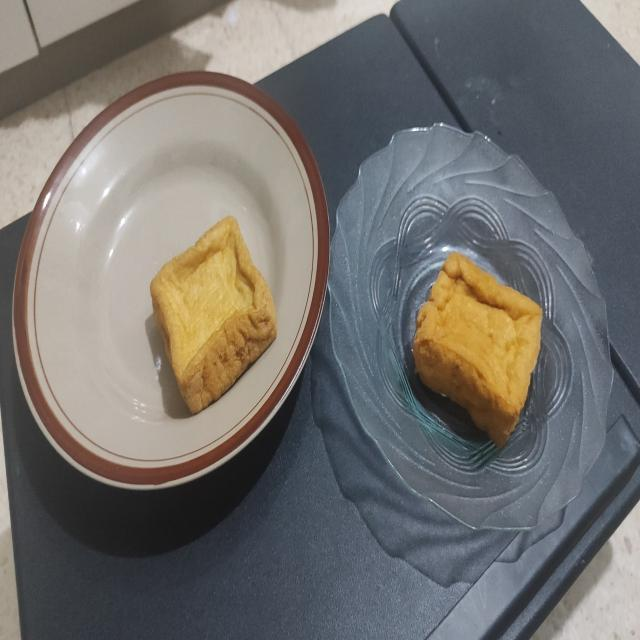tahu_goreng: (413, 252, 542, 447), (150, 216, 276, 414)
